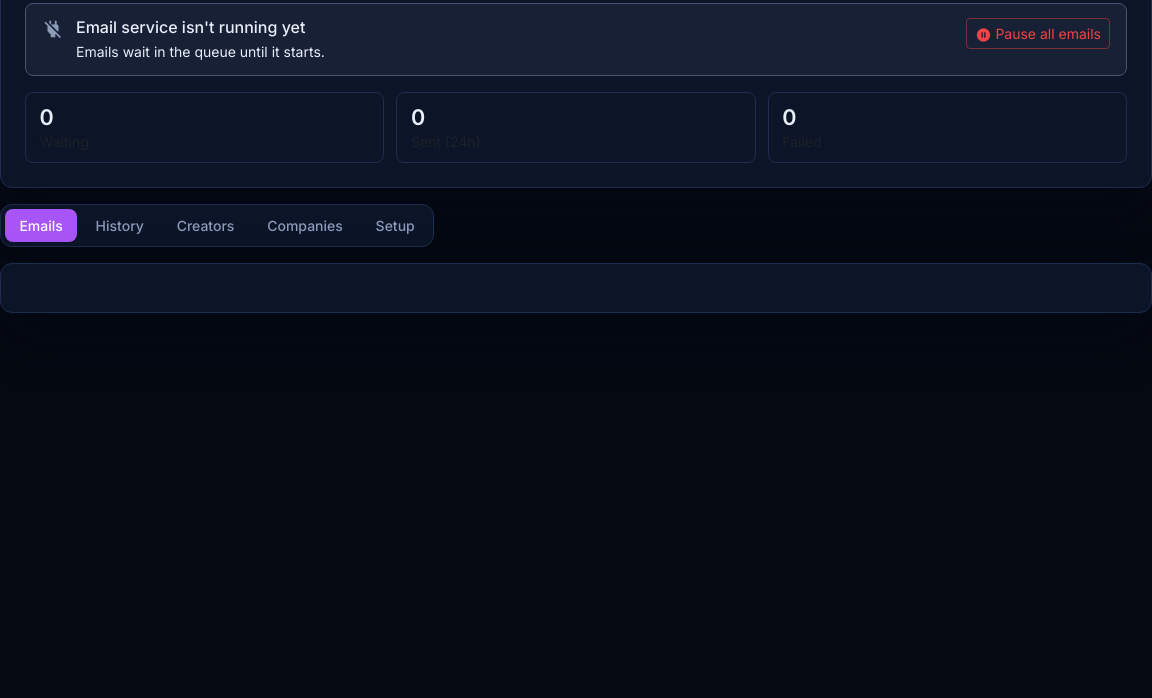
it: EmailTriggersPage › shows one status per creator, saying when emails stop
Click the tab "Creators".
click(206, 226)  # box [162,209,249,242]
(page scrolled)
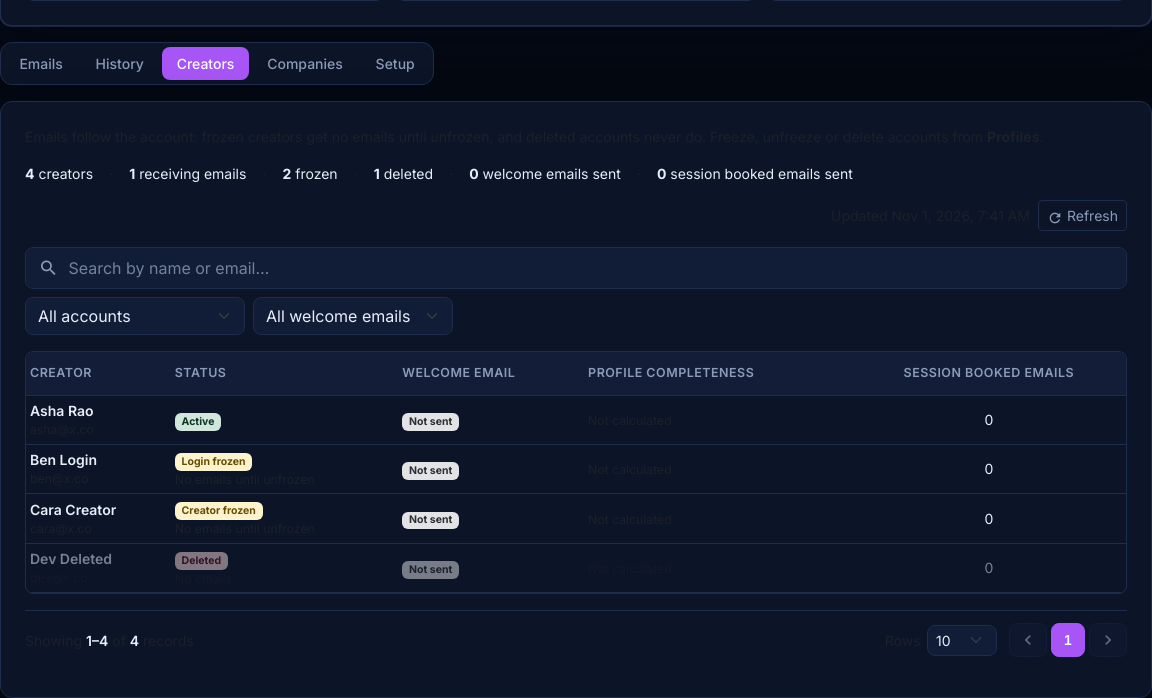
Expected: the text "No emails until unfrozen" below "Login frozen" is shown, [175,472,315,487]
Now the text "Active" is shown, box [175,413,221,431]
Now the text "Creator frozen" is shown, box [175,502,263,520]
